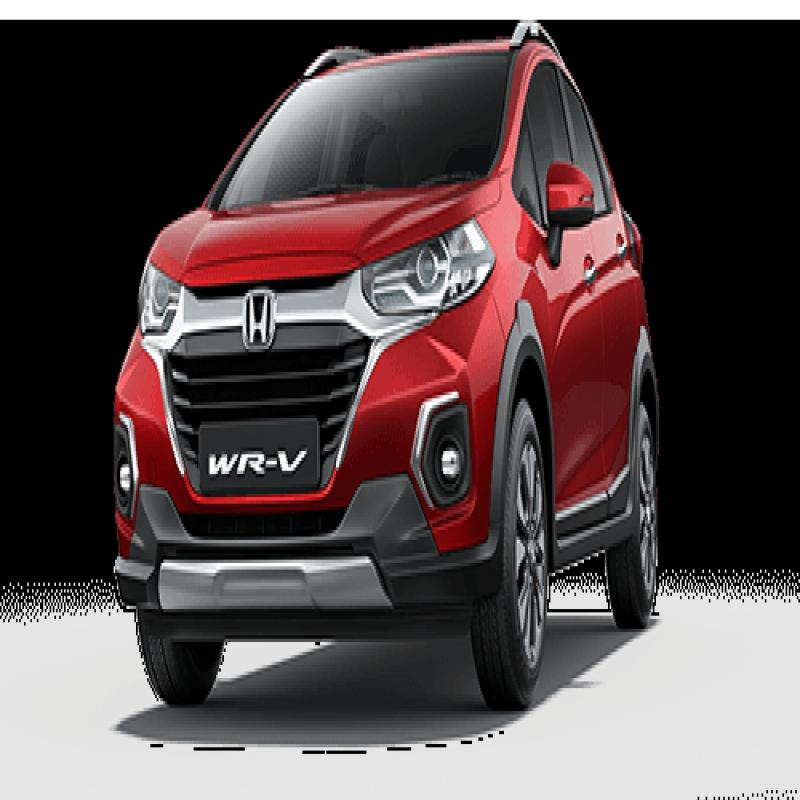car: (96, 19, 672, 729)
